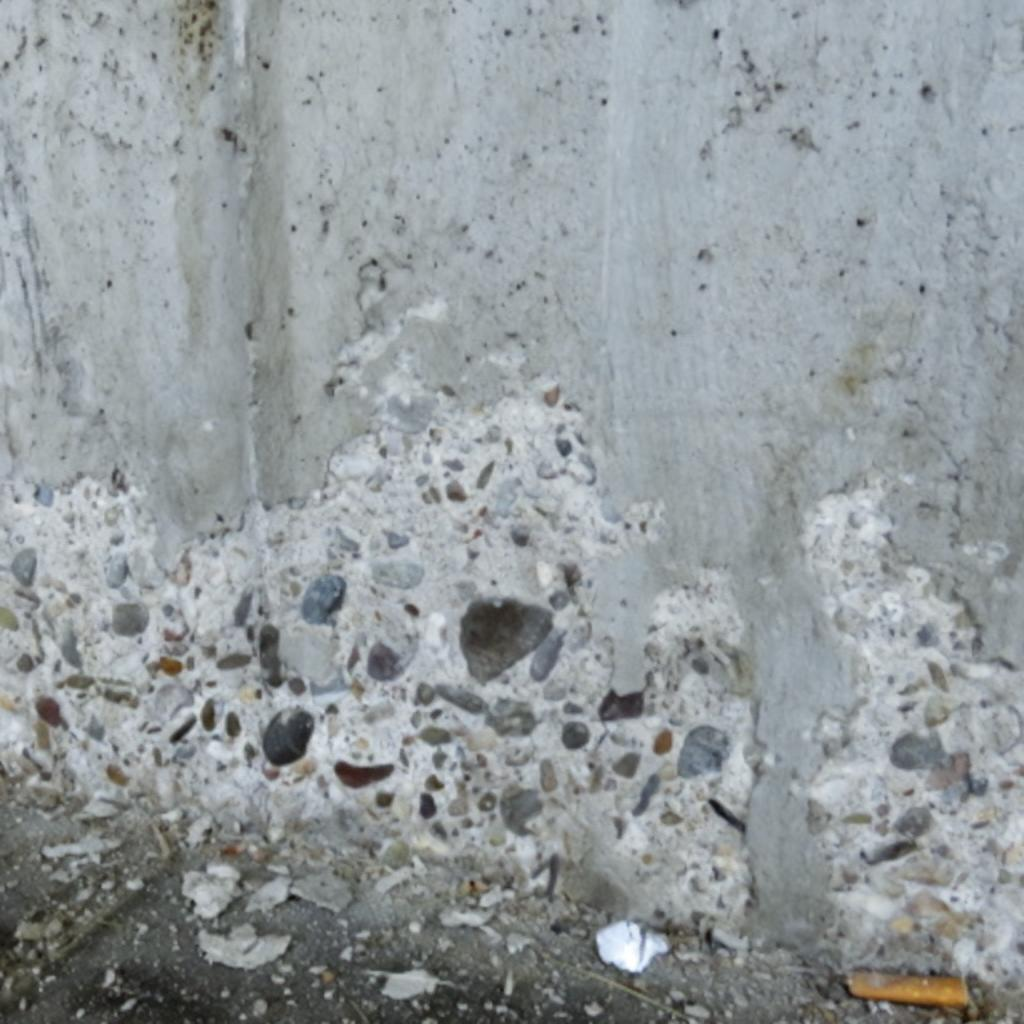spalling: (0, 304, 752, 921), (806, 484, 1024, 1009)
